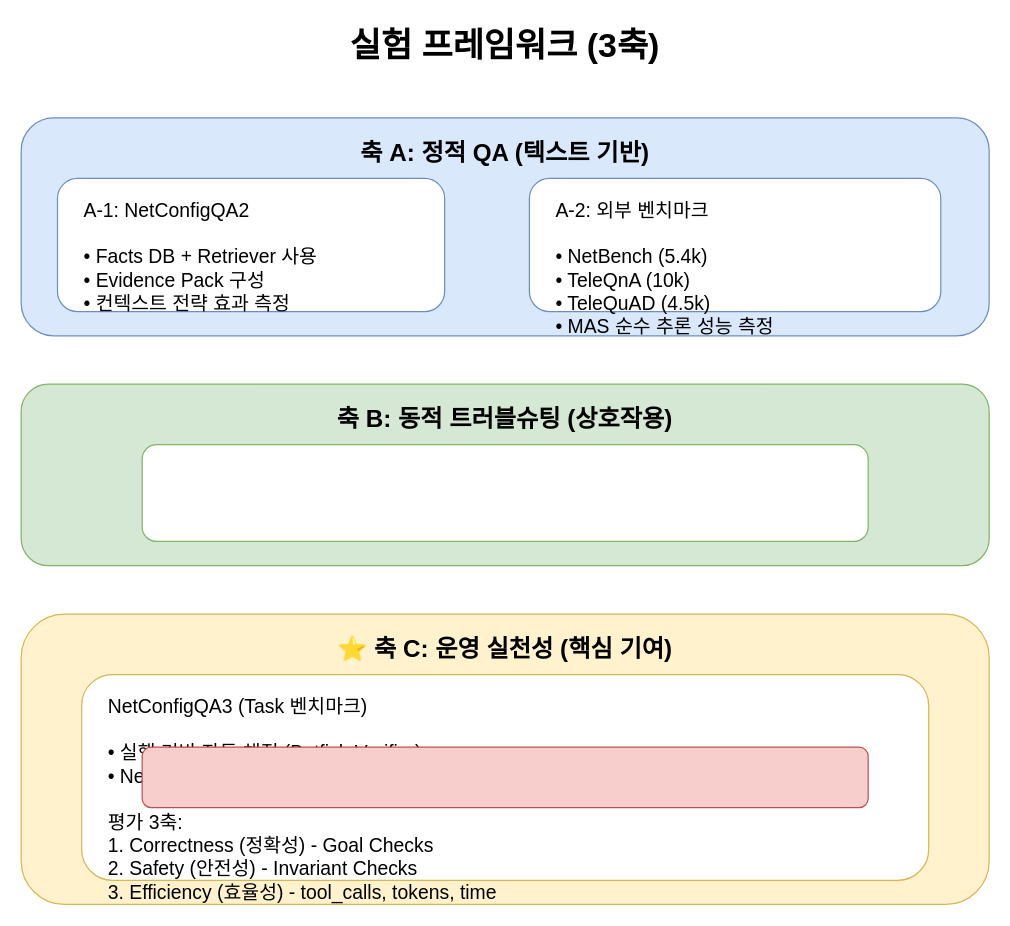
Some shapes in this 1010 by 926 pixel diagram are drawn without their labels. Here are the shapes that lost their labels. From the top down, the centre of each, then its label:
the point at 504,492: NIKA (Network Arena) • 동적 네트워크 트러블슈팅 아레나 평가: TTR, 툴 호출 수, 위험 행동률
the point at 504,777: ✅ 핵심 차별점: LLM-as-a-judge 사용 안 함 → 재현성 + 공정성 확보
